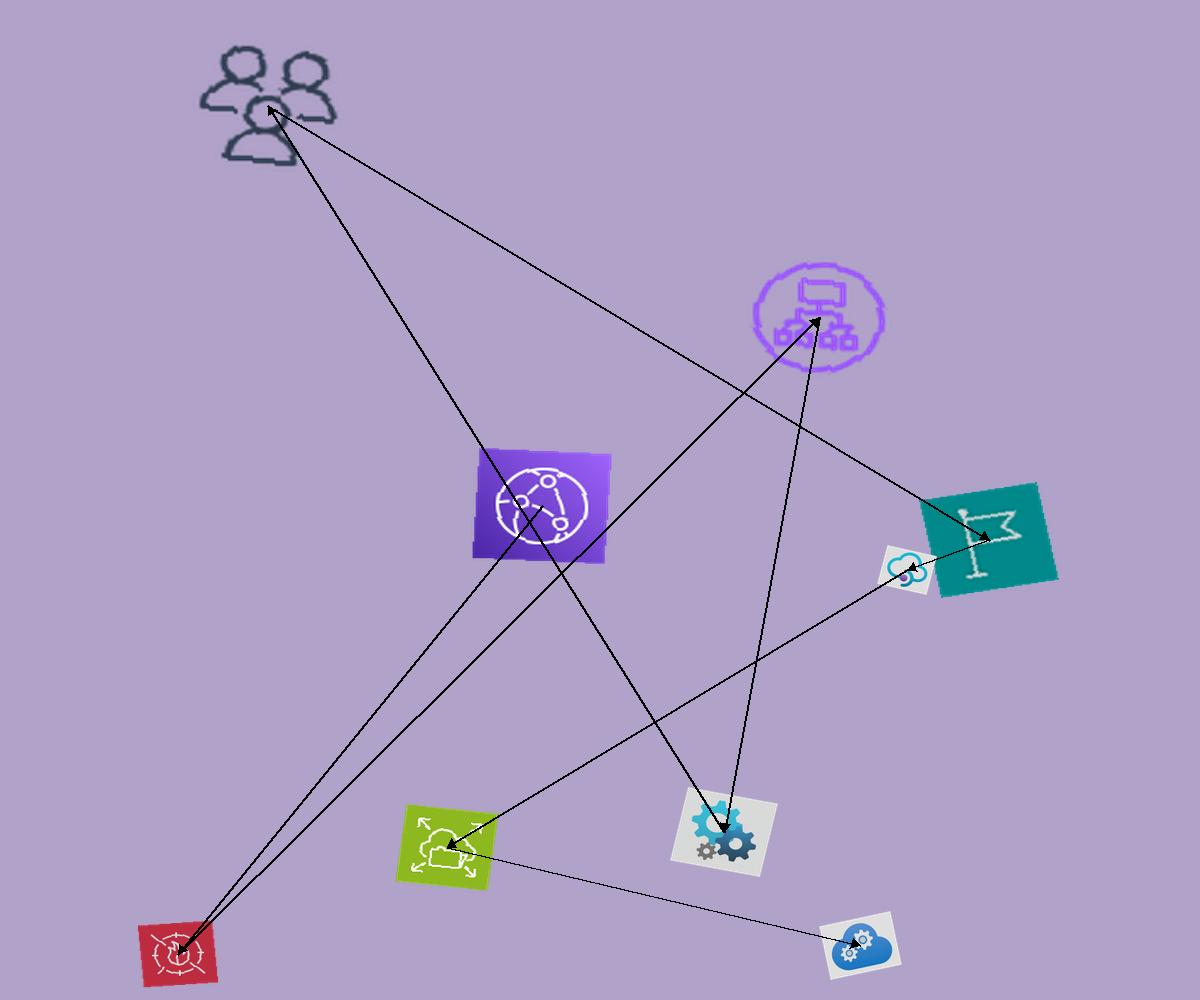AWS-CloudFront: (471, 447, 613, 565)
AWS-EFS: (395, 804, 499, 891)
AWS-Region: (919, 482, 1059, 598)
AWS-Res_Elastic-Load-Balancing_Application-Load-Balancer: (738, 250, 900, 385)
AWS-Res_Users: (181, 33, 356, 179)
AWS-WAF: (137, 920, 219, 988)
Azure_api: (670, 787, 778, 877)
Azure_api_gateway: (877, 545, 937, 595)
Azure_cloud_services: (819, 911, 902, 980)
